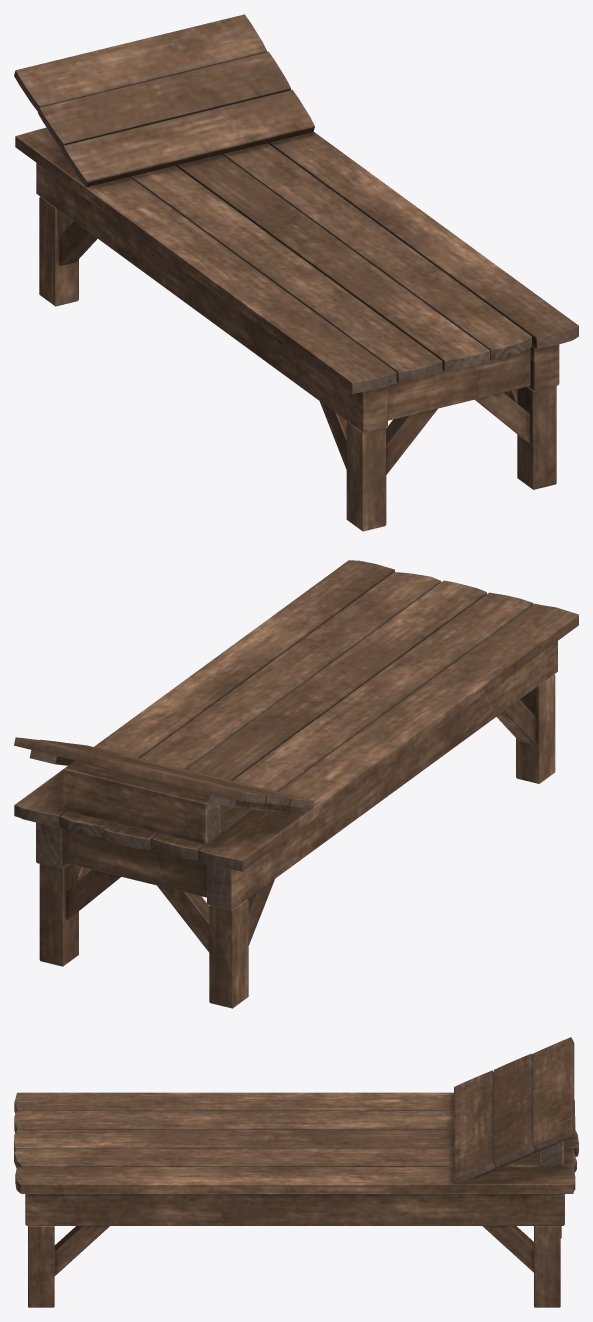
The model's file is SM_Bed.glb.
3 renders of one model, top to bottom at view 1: azimuth 30°, elevation 25°; view 2: azimuth 150°, elevation 25°; view 3: azimuth 270°, elevation 25°, orthographic. The views are drawn at different scales.
Parts seen in each view (by area): view 1: SM_Bed; view 2: SM_Bed; view 3: SM_Bed.
Boxes of the visible parts, x1,y1,x2,y2 form: SM_Bed: (14,14,578,531); SM_Bed: (14,560,578,1008); SM_Bed: (14,1037,578,1307).
Bounding box in the file's own units: 1.01 × 0.9471 × 2.61.
Materials: 1 (1 with a texture image).
